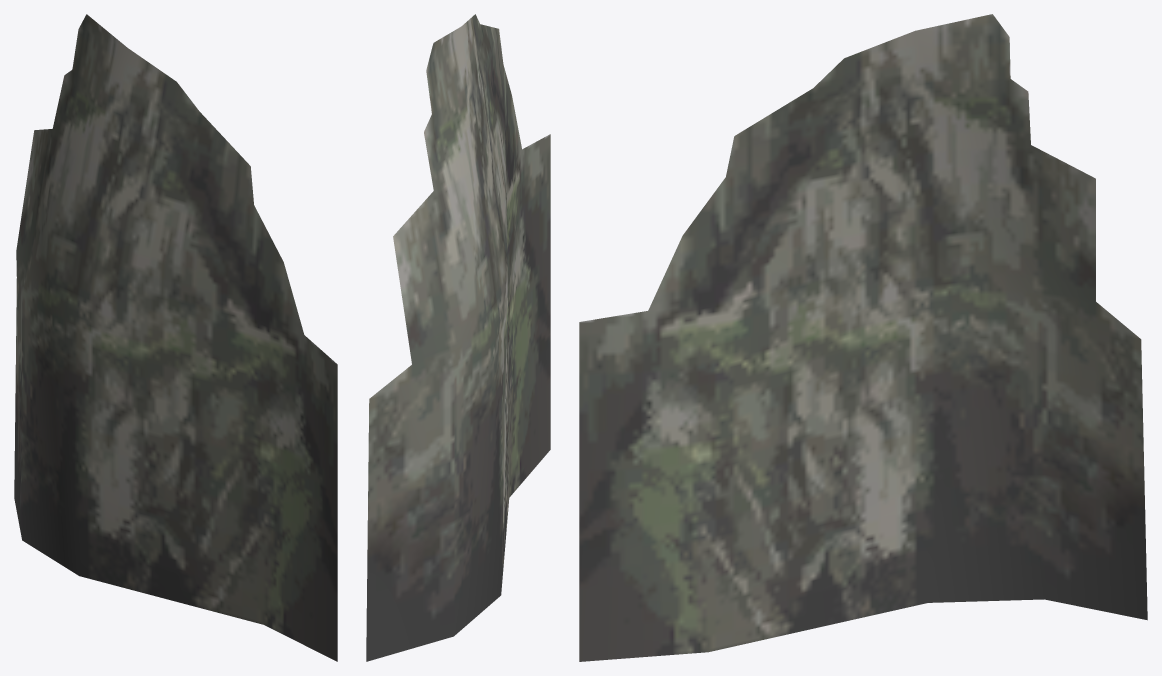
The model's file is BgMD_Mid_Mount_C_02.FBX.
3 renders of one model, left to right at view 1: azimuth 30°, elevation 25°; view 2: azimuth 150°, elevation 25°; view 3: azimuth 270°, elevation 25°, orthographic. The views are drawn at different scales.
Visible parts, largest first — view 1: BgMD_Mid_Mount_C_02; view 2: BgMD_Mid_Mount_C_02; view 3: BgMD_Mid_Mount_C_02.
Part boxes in pixels (box(x1,y1,x2,y2)): BgMD_Mid_Mount_C_02: box(14, 14, 337, 661); BgMD_Mid_Mount_C_02: box(366, 14, 550, 661); BgMD_Mid_Mount_C_02: box(579, 14, 1147, 661).
Bounding box in the file's own units: 293 × 1300 × 1100.
